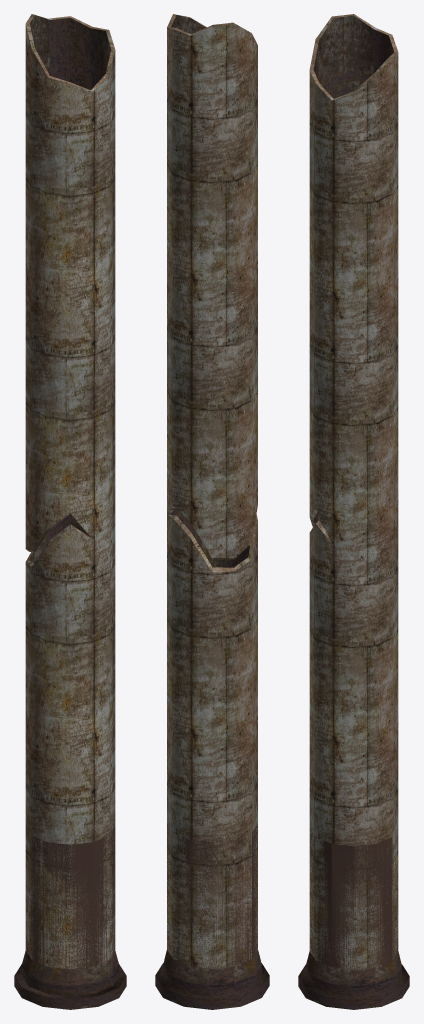
The model's file is railpipe_sd03.glb.
The picture shows the model from 3 angles, left to right: view 1: azimuth 30°, elevation 25°; view 2: azimuth 150°, elevation 25°; view 3: azimuth 330°, elevation 25°; orthographic projection. The views are drawn at different scales.
Size of the model in its own units: 41.38 by 391 by 41.38.
3 materials, 3 textured.
